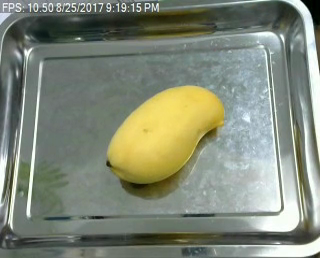Mango: (102, 81, 230, 182)
